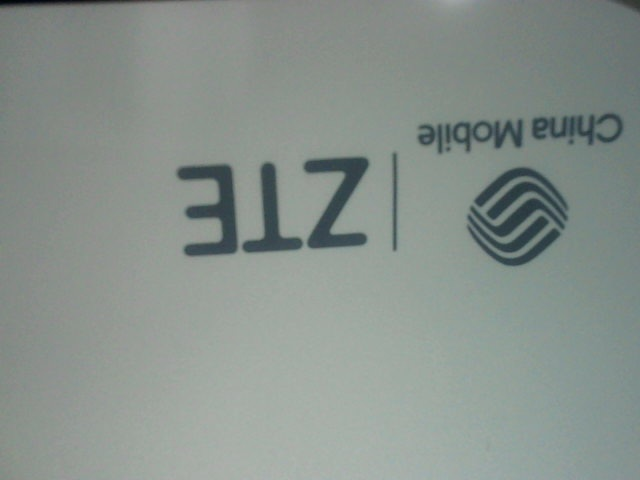AL_ZTEChinaMobile: (170, 104, 626, 276)
